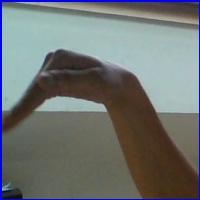A: (3, 41, 145, 151)
